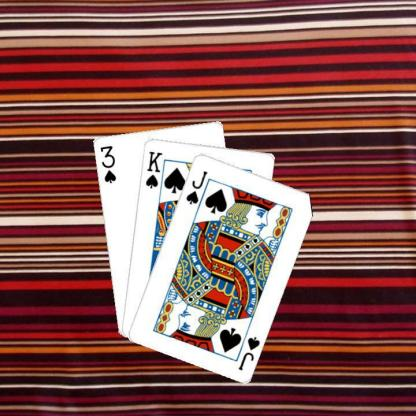3S: (97, 143, 117, 184)
JS: (183, 168, 209, 206), (235, 334, 261, 371)
KS: (143, 148, 163, 189)
